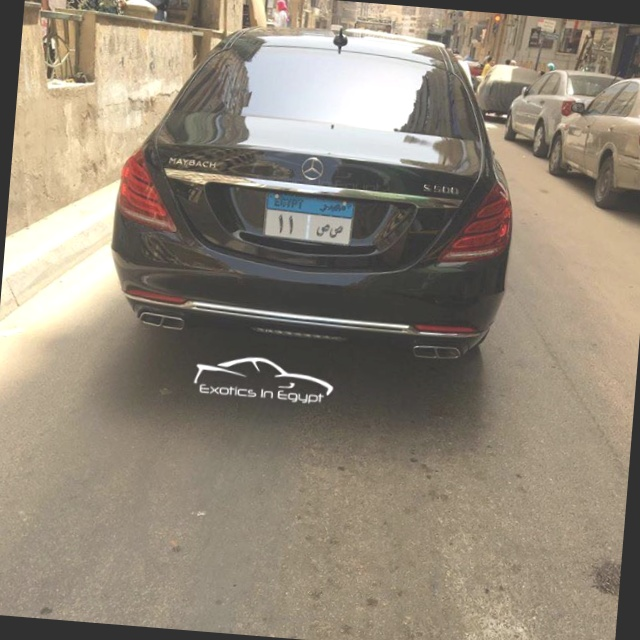License Plate: (261, 189, 358, 250)
